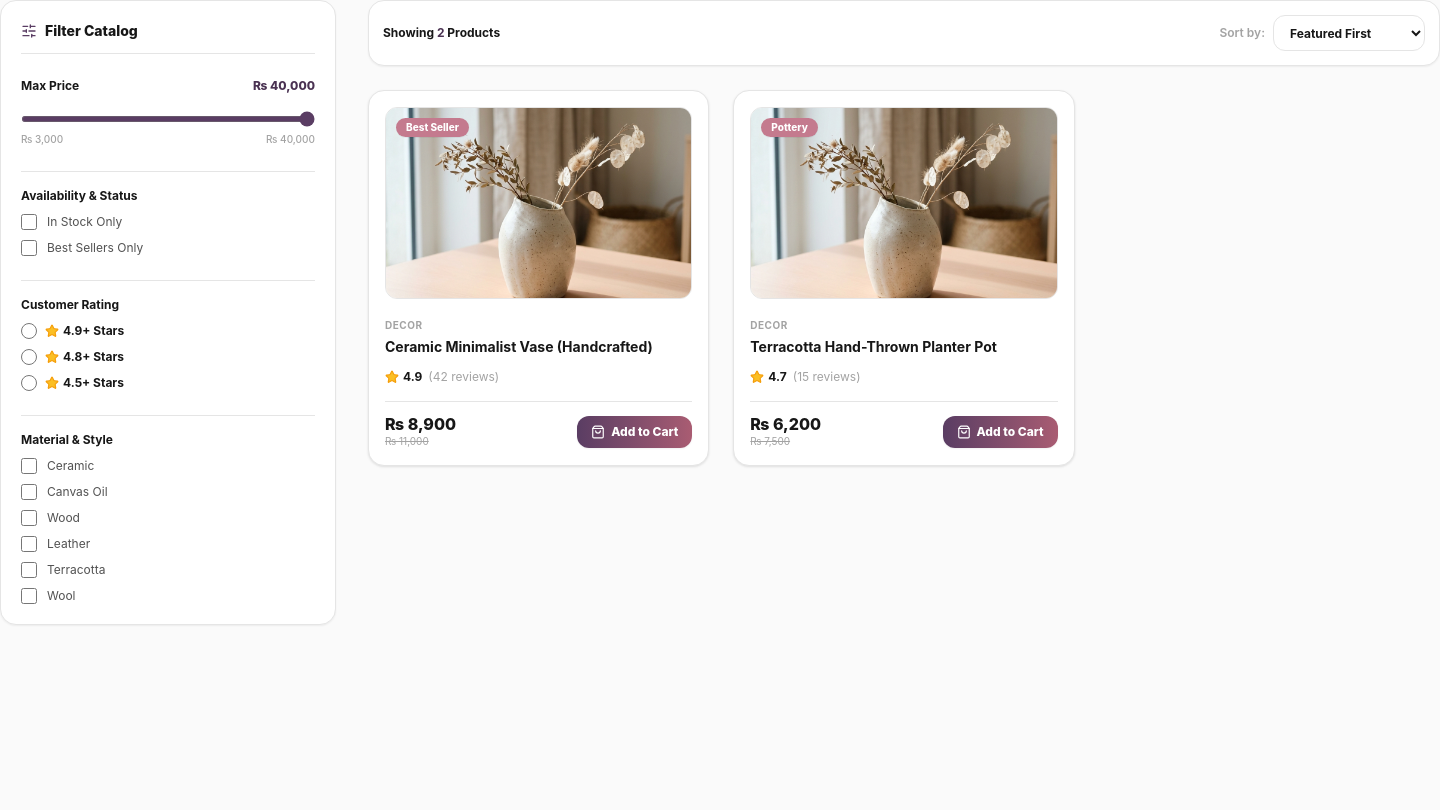
Scenario: Storefront Category Landing & Search Results › CatalogView Component › renders clear empty state when no products match filters
Set the slider labelled "Max Price" to "3000" at (29, 119), box x1=21 y1=116 x2=315 y2=122
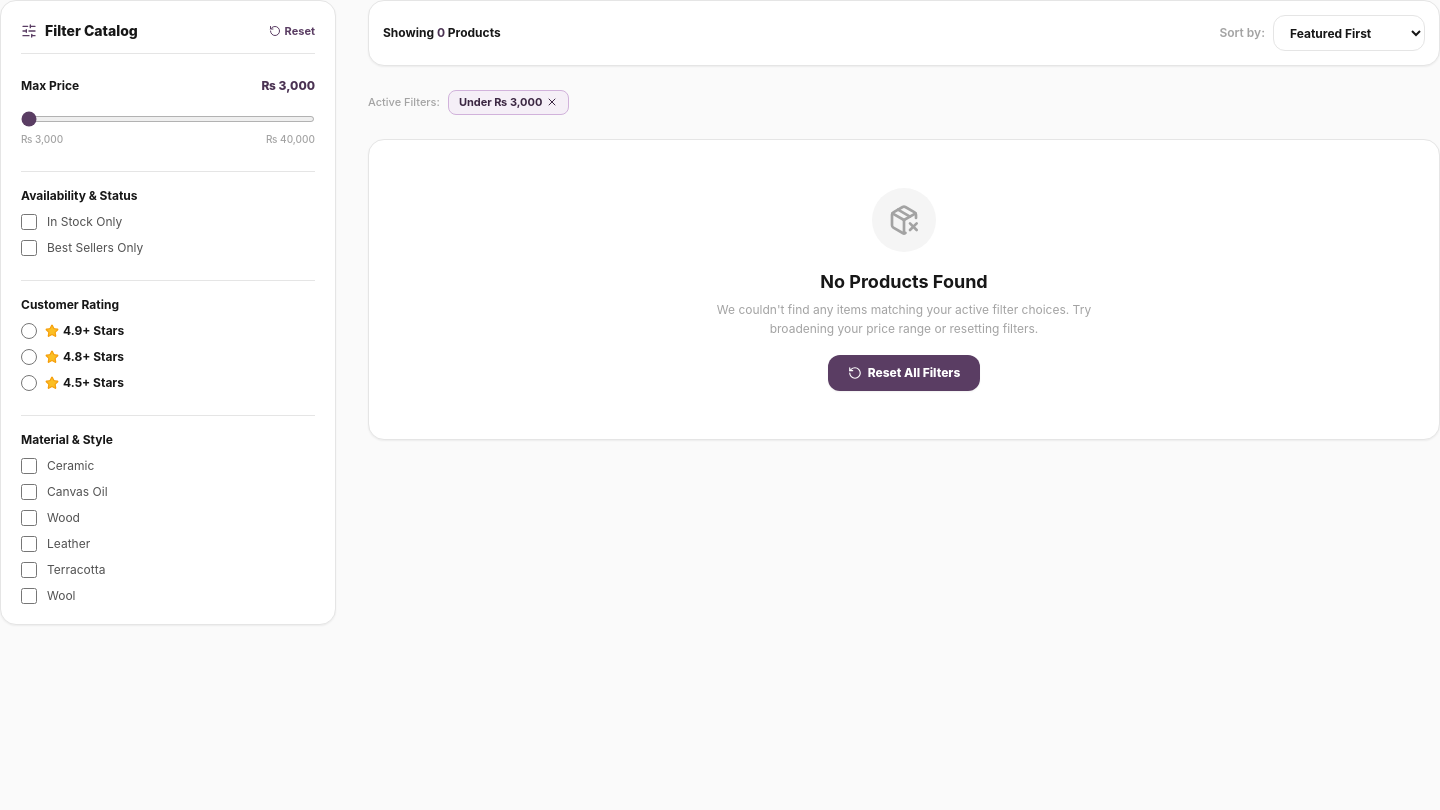
Check: the heading "No Products Found" is shown, box x1=820 y1=271 x2=988 y2=292
Check: the text "Reset All Filters" is shown, box x1=868 y1=365 x2=960 y2=381
